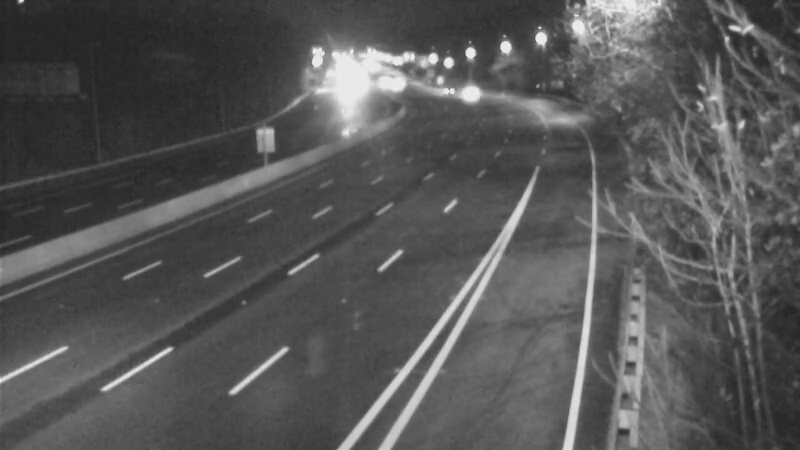vehicle: (423, 66, 473, 116), (445, 70, 495, 120)
